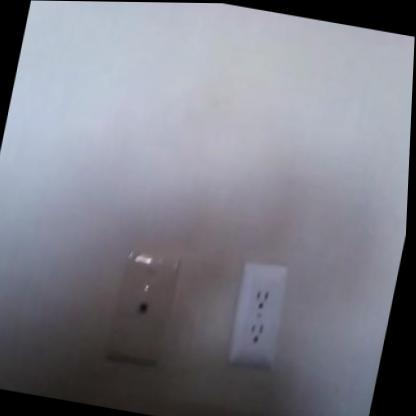OUTLET: (225, 260, 291, 366)
